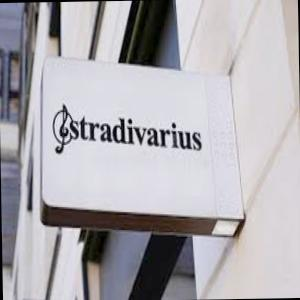stradivarius: (51, 95, 206, 172)
